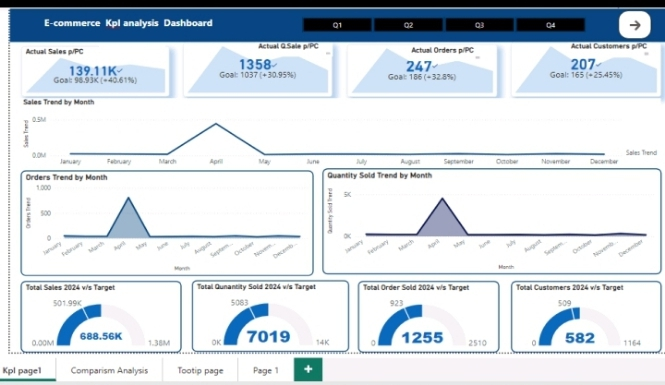

The page's visual inventory and layout, read from the dashboard file:
{"tool":"powerbi","page":{"name":"KpI page1","canvas":[1280,720],"ordinal":0},"visuals":[{"type":"shape","box":[0,0,1280,70.2],"z":0},{"type":"kpi","title":"Actual Sales p/PC","fields":{"Indicator":["Sum(Sales data 2024.sales)"],"TrendLine":["Sales data 2024.product_category"],"Goal":["Sum(Sales data 2023.Sales)"]},"box":[22,78.9,287.7,105.5],"z":1000},{"type":"kpi","fields":{"Indicator":["Sum(Sales data 2024.quantity_sold)"],"TrendLine":["Sales data 2024.product_category"],"Goal":["Sum(Sales data 2023.Quantity_Sold)"]},"box":[337.7,70.2,290.4,114.2],"z":2000},{"type":"kpi","fields":{"TrendLine":["Sales data 2024.product_category"],"Indicator":["CountNonNull(Sales data 2024.order_id)"],"Goal":["CountNonNull(Sales data 2023.order_id)"]},"box":[656.1,74.3,291.8,110.1],"z":3000},{"type":"kpi","fields":{"TrendLine":["Sales data 2024.product_category"],"Indicator":["Count(Sales data 2024.customer_id)"],"Goal":["Count(Sales data 2023.customer_id)"]},"box":[975.8,70.2,292.4,113.8],"z":4000},{"type":"textbox","box":[173,74.3,128.7,31],"z":5000},{"type":"textbox","title":"Actual Q.Sale p/PC","box":[478.6,70.6,149.6,29.6],"z":6000},{"type":"textbox","title":"Actual Orders p/PC","box":[776.5,79.1,142.6,31.1],"z":7000},{"type":"textbox","title":"Actual Customers p/PC","box":[1087.1,70.6,160.9,32.5],"z":8000},{"type":"lineChart","fields":{"Category":["Sales data 2024.date.Variation.Date Hierarchy.Year","Sales data 2024.date.Variation.Date Hierarchy.Quarter","Sales data 2024.date.Variation.Date Hierarchy.Month","Sales data 2024.date.Variation.Date Hierarchy.Day"],"Y":["Sum(Sales data 2024.sales)"]},"box":[21.9,187.7,1245.9,150.4],"z":9000},{"type":"areaChart","fields":{"Category":["Sales data 2024.date.Variation.Date Hierarchy.Year","Sales data 2024.date.Variation.Date Hierarchy.Quarter","Sales data 2024.date.Variation.Date Hierarchy.Month","Sales data 2024.date.Variation.Date Hierarchy.Day"],"Y":["CountNonNull(Sales data 2024.order_id)"]},"box":[21.2,338.8,570,221.2],"z":10000},{"type":"areaChart","fields":{"Category":["Sales data 2024.date.Variation.Date Hierarchy.Year","Sales data 2024.date.Variation.Date Hierarchy.Quarter","Sales data 2024.date.Variation.Date Hierarchy.Month","Sales data 2024.date.Variation.Date Hierarchy.Day"],"Y":["Sum(Sales data 2024.quantity_sold)"]},"box":[608.1,334.3,659.6,222.4],"z":11000},{"type":"gauge","title":"Total Sales 2024  v/s Target","fields":{"Y":["Sum(Sales data 2024.sales)"],"TargetValue":["Sum(Sales data 2023.Sales)"]},"box":[21.2,570,312.5,150],"z":12000},{"type":"gauge","title":"Total  Qunantity Sold 2024  v/s Target","fields":{"Y":["Sum(Sales data 2024.quantity_sold)"],"TargetValue":["Sum(Sales data 2023.Quantity_Sold)"]},"box":[354.9,569.6,306,150.4],"z":13000},{"type":"gauge","title":"Total  Order Sold 2024  v/s Target","fields":{"Y":["CountNonNull(Sales data 2024.order_id)"],"TargetValue":["CountNonNull(Sales data 2023.order_id)"]},"box":[677.2,570,275.3,150],"z":14000},{"type":"gauge","title":"Total Customers 2024  v/s Target","fields":{"Y":["Count(Sales data 2024.customer_id)"],"TargetValue":["Count(Sales data 2023.customer_id)"]},"box":[975.8,570,293.2,150],"z":15000},{"type":"textbox","box":[61.9,11,355.1,35.8],"z":16000},{"type":"slicer","fields":{"Values":["Sales data 2024.Quarter"]},"box":[543.7,11,601.5,45.4],"z":17000},{"type":"actionButton","box":[1184.5,4.2,63.5,59.3],"z":18000}]}

Visuals, with their boxes on the page's 1280x720 design canvas (x1, y1, x2, y2). These are canvas units, not pixel positions in the 665x385 screenshot, which may show the page scaled, cropped or inside an application window:
shape: <box>0,0,1280,70</box>
"Actual Sales p/PC" kpi: <box>22,79,310,184</box>
kpi - Sum(Sales data 2024.quantity_sold) x Sales data 2024.product_category: <box>338,70,628,184</box>
kpi - Sales data 2024.product_category x CountNonNull(Sales data 2024.order_id): <box>656,74,948,184</box>
kpi - Sales data 2024.product_category x Count(Sales data 2024.customer_id): <box>976,70,1268,184</box>
textbox: <box>173,74,302,105</box>
"Actual Q.Sale p/PC" textbox: <box>479,71,628,100</box>
"Actual Orders p/PC" textbox: <box>776,79,919,110</box>
"Actual Customers p/PC" textbox: <box>1087,71,1248,103</box>
lineChart - Sales data 2024.date.Variation.Date Hierarchy.Year x Sales data 2024.date.Variation.Date Hierarchy.Quarter: <box>22,188,1268,338</box>
areaChart - Sales data 2024.date.Variation.Date Hierarchy.Year x Sales data 2024.date.Variation.Date Hierarchy.Quarter: <box>21,339,591,560</box>
areaChart - Sales data 2024.date.Variation.Date Hierarchy.Year x Sales data 2024.date.Variation.Date Hierarchy.Quarter: <box>608,334,1268,557</box>
"Total Sales 2024  v/s Target" gauge: <box>21,570,334,720</box>
"Total  Qunantity Sold 2024  v/s Target" gauge: <box>355,570,661,720</box>
"Total  Order Sold 2024  v/s Target" gauge: <box>677,570,952,720</box>
"Total Customers 2024  v/s Target" gauge: <box>976,570,1269,720</box>
textbox: <box>62,11,417,47</box>
slicer - Sales data 2024.Quarter: <box>544,11,1145,56</box>
actionButton: <box>1184,4,1248,64</box>
